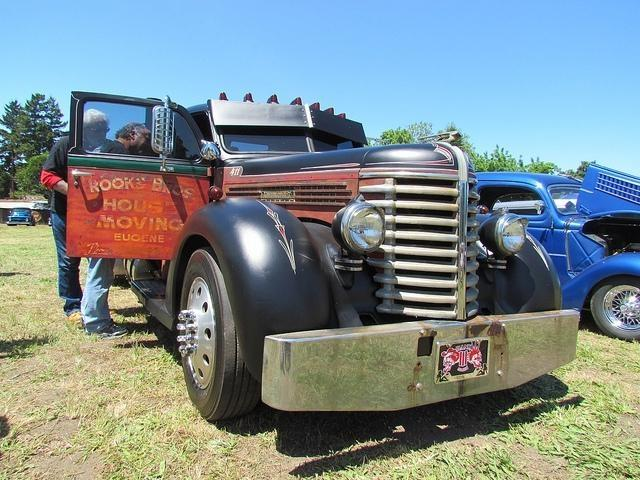car: (476, 174, 640, 340), (8, 206, 36, 226)
truck: (66, 92, 578, 423), (482, 175, 640, 329)
